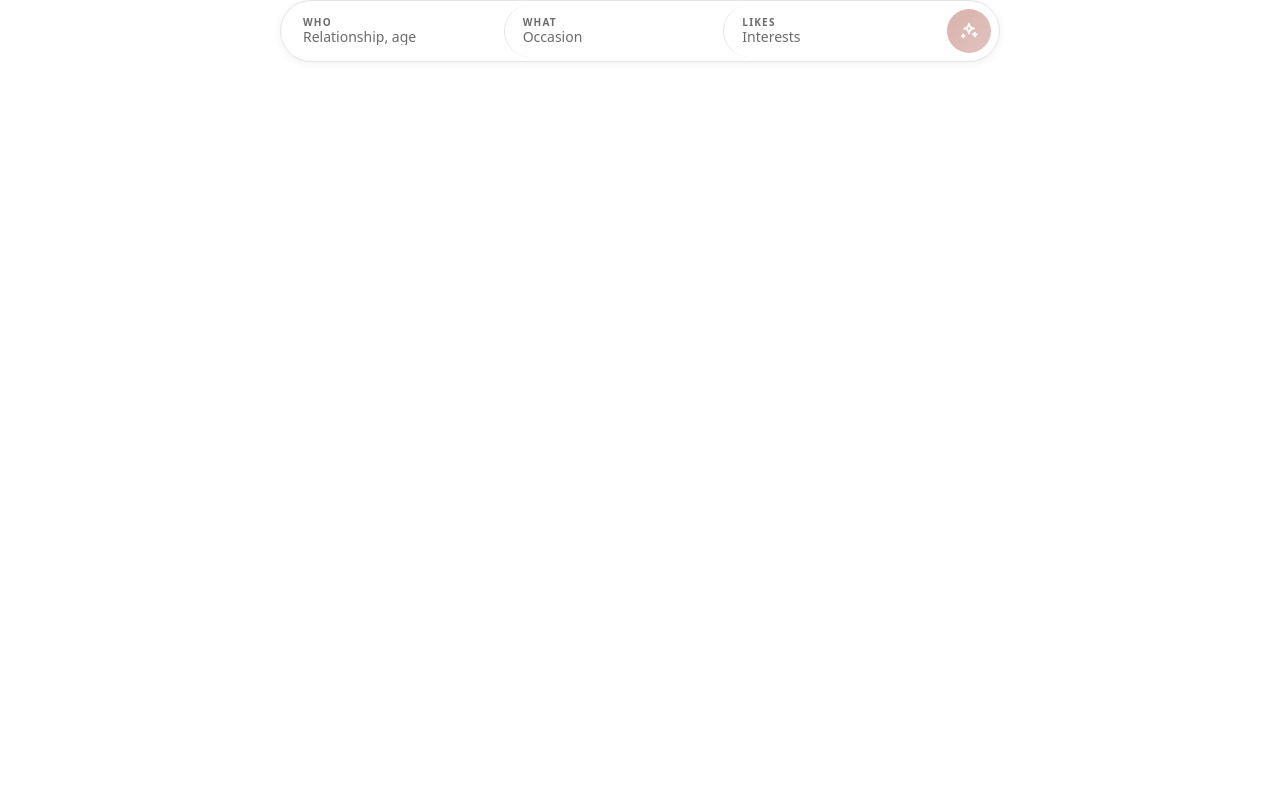
Test: SearchPill › opens WHO dropdown on click and shows relationship + age headings
Click the button "Who Relationship, age" at (394, 31), box [285,5,504,57]
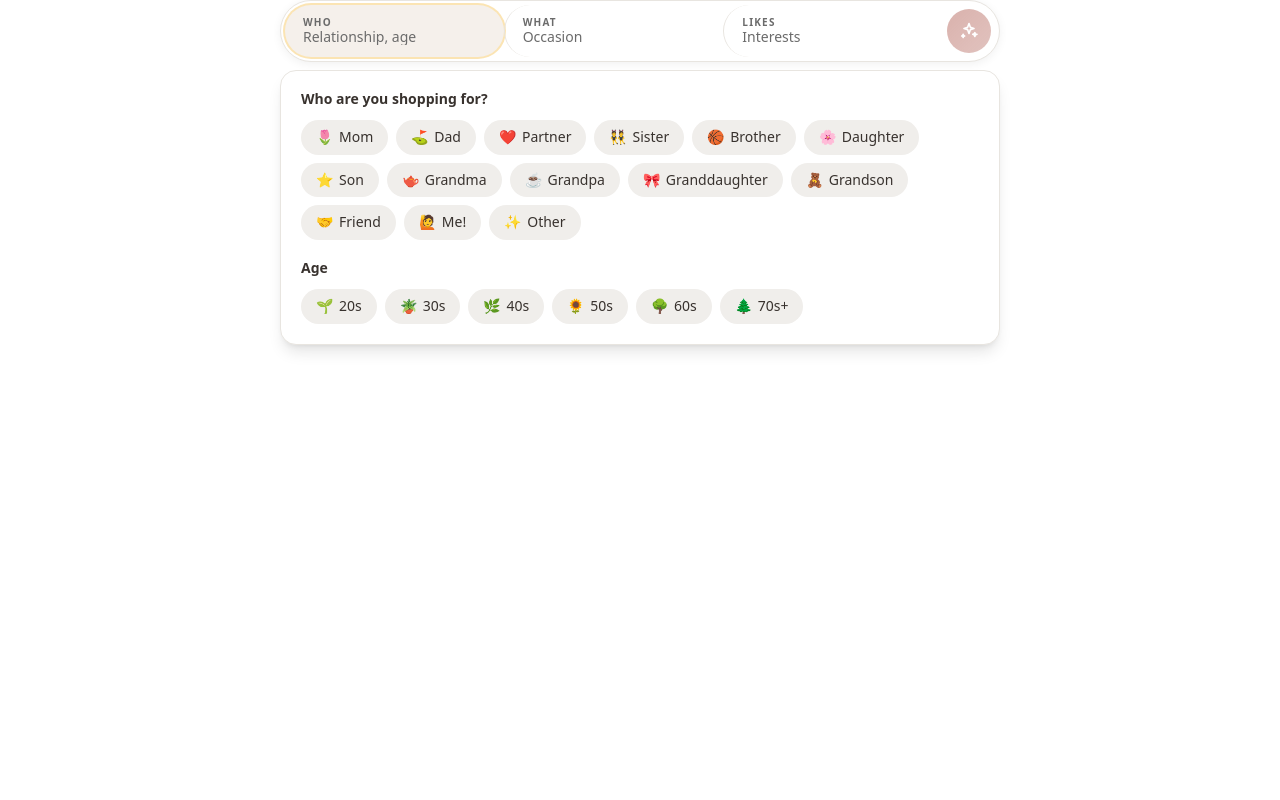
Check: the dialog "Who are you shopping for" is shown, box [280,70,1000,345]
Check: the heading "Who are you shopping for?" is shown, box [301,89,488,108]
Check: the heading "Age" is shown, box [301,258,328,277]
